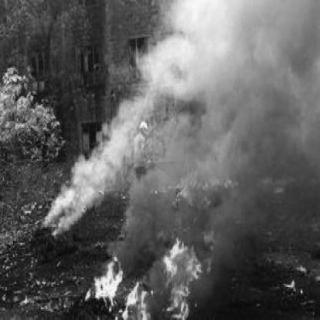Smoke: (176, 4, 316, 174)
